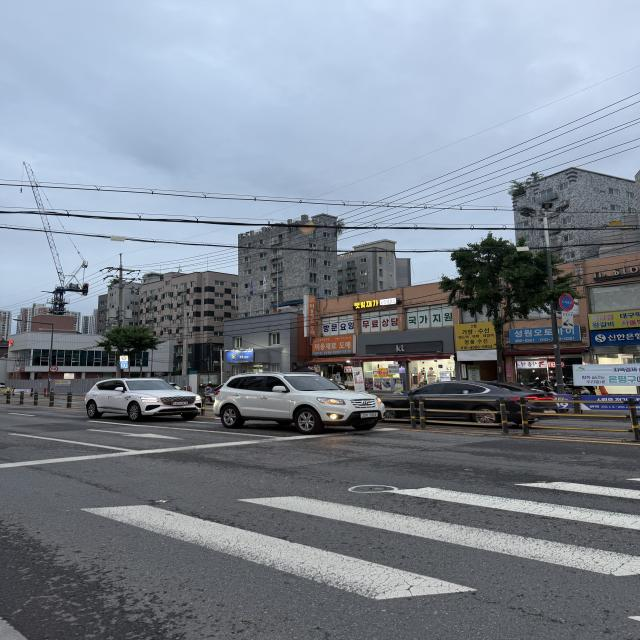car: (209, 363, 400, 439), (374, 370, 570, 427), (67, 372, 206, 429)
